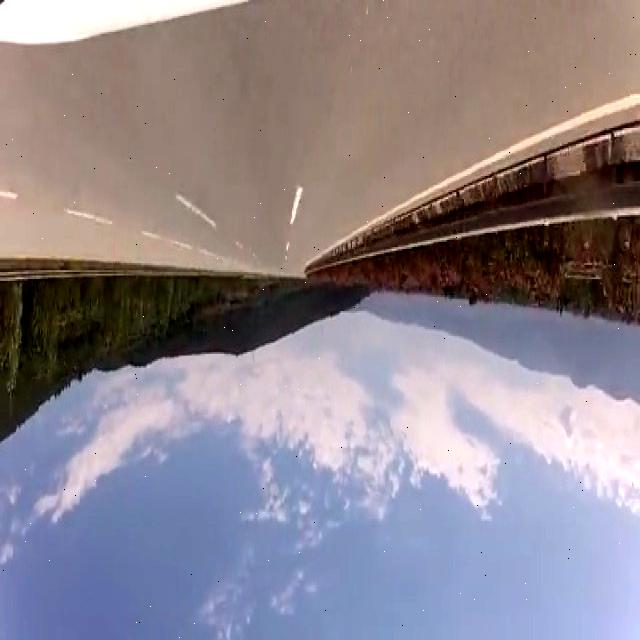road: (1, 4, 640, 277)
